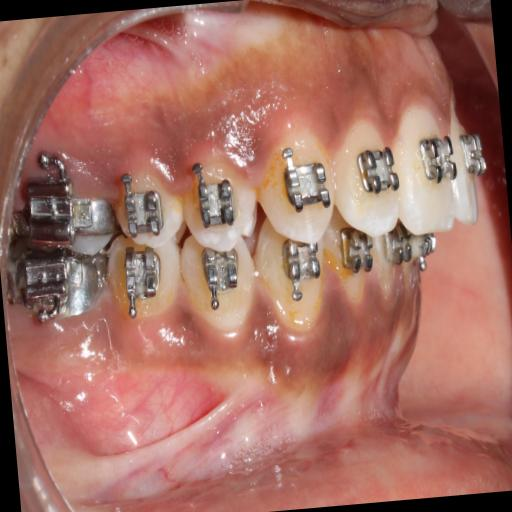correct_brace: (178, 147, 260, 251), (352, 138, 402, 204), (278, 156, 331, 216), (414, 130, 460, 187)
incorrect_brace: (326, 111, 404, 245), (194, 175, 238, 234)
